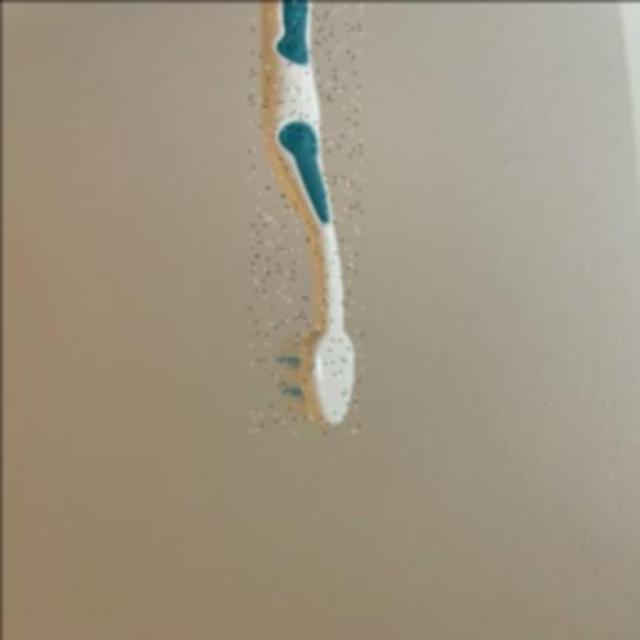toothbrush: (248, 1, 362, 436)
